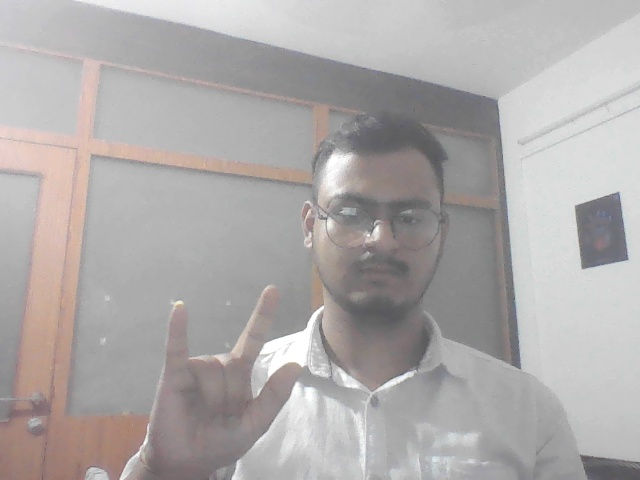I Love You: (136, 272, 308, 477)
